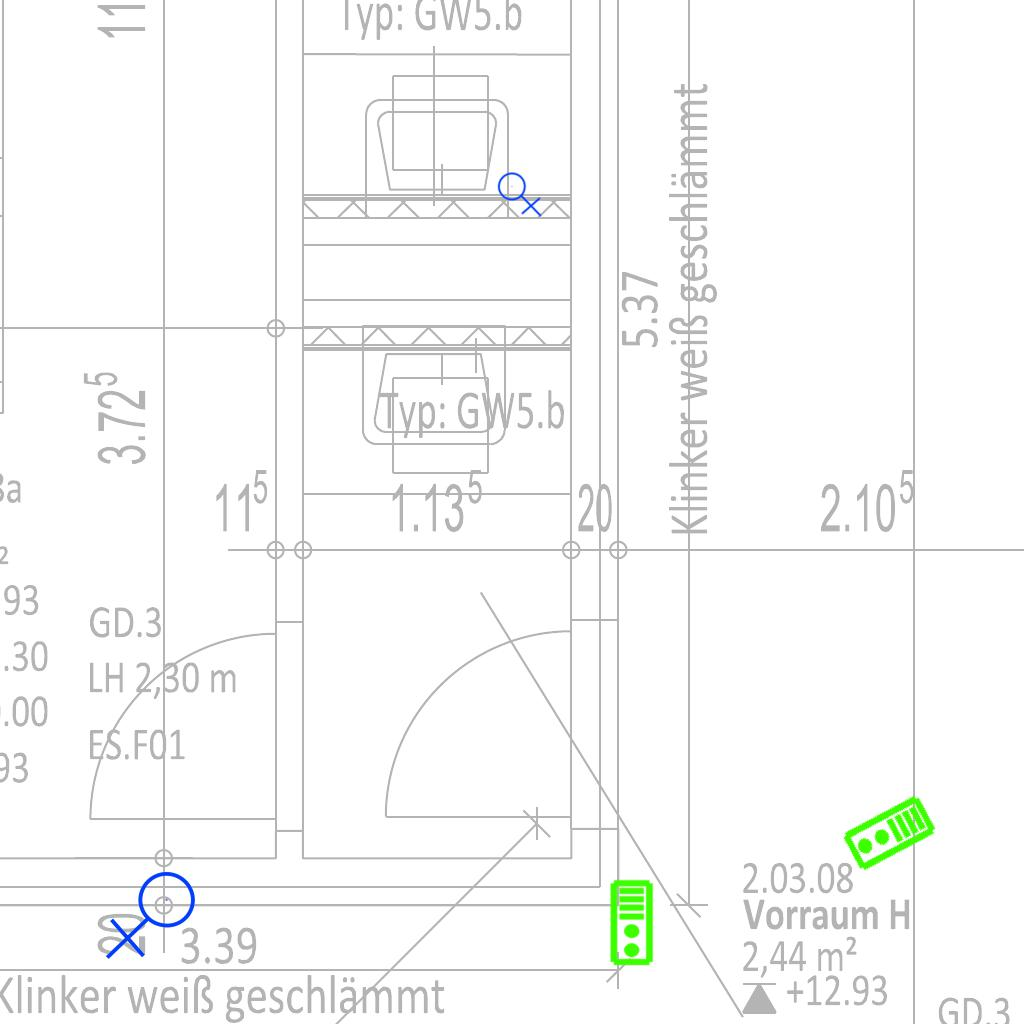Elektroanschluss_allgemein_230V_Geraeteanschlussdose_230V: (105, 870, 204, 964), (497, 168, 544, 217)
Gegensprechanlage_mit_Video: (839, 792, 940, 876), (609, 879, 656, 967)
